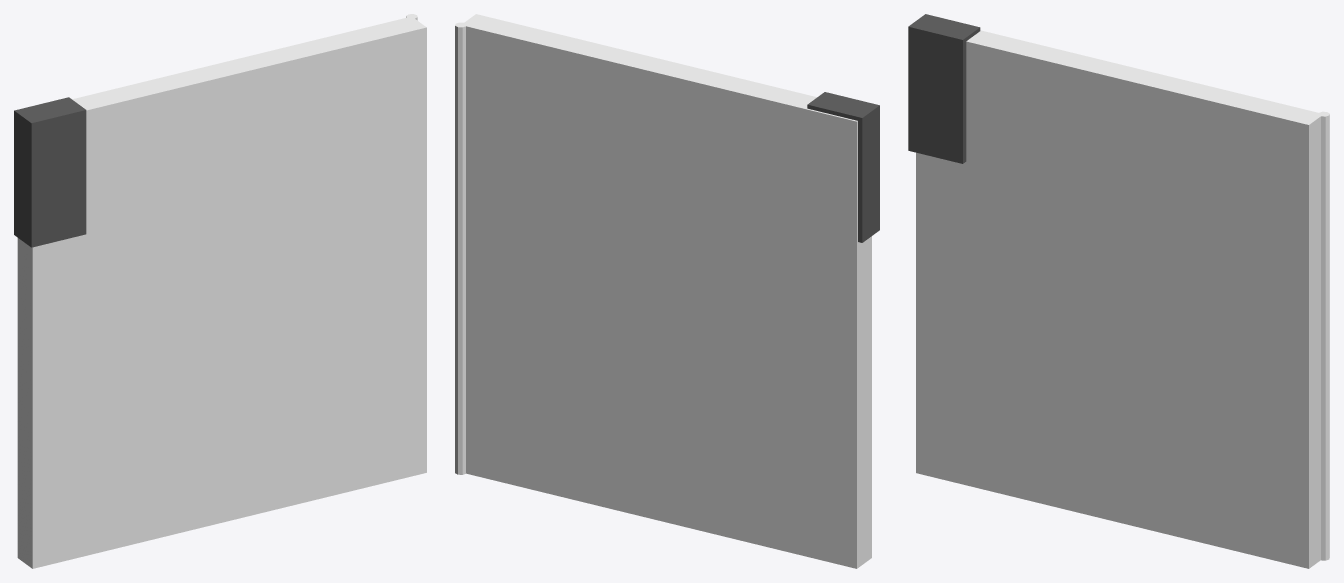
File: freezer door.fbx
The picture shows the model from 3 angles, left to right: view 1: azimuth 30°, elevation 25°; view 2: azimuth 150°, elevation 25°; view 3: azimuth 330°, elevation 25°; orthographic projection.
Visible parts, largest first — view 1: freezer_door_body, freezer_handler; view 2: freezer_door_body, freezer_door_axis, freezer_handler; view 3: freezer_door_body, freezer_handler, freezer_door_axis.
Part boxes in pixels (x1,y1,x2,y2): freezer_door_body: (17, 17, 426, 568); freezer_handler: (14, 97, 86, 247); freezer_door_body: (464, 14, 871, 568); freezer_door_axis: (455, 22, 466, 474); freezer_handler: (807, 92, 879, 242); freezer_door_body: (916, 30, 1320, 568); freezer_handler: (908, 14, 980, 163); freezer_door_axis: (1318, 111, 1329, 560).
Bounding box in the file's own units: 155 × 165 × 14.2.
Materials: 2 (2 with a texture image).
